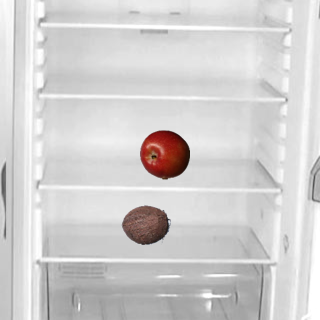Apple Braeburn: (139, 129, 189, 179)
Cocos: (120, 199, 170, 249)
